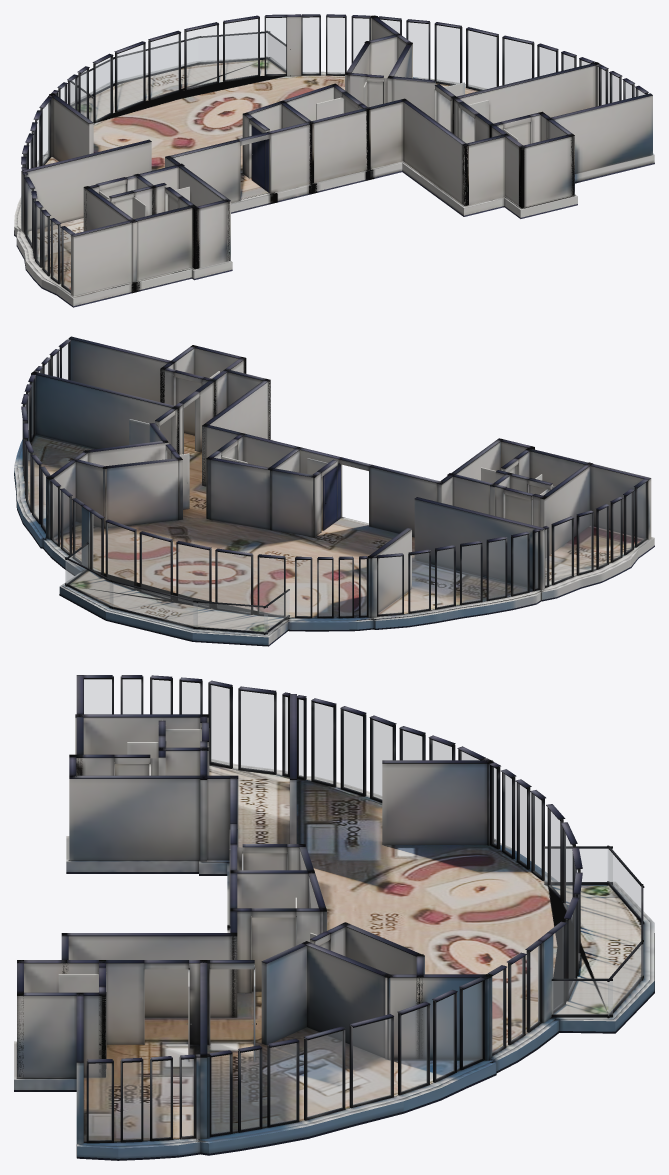
3 renders of one model, top to bottom at view 1: azimuth 30°, elevation 25°; view 2: azimuth 150°, elevation 25°; view 3: azimuth 270°, elevation 25°, orthographic. The views are drawn at different scales.
Visible parts, largest first — view 1: plan, glass22_m, glass21_m, railg3_m, glass30_m, glass20_m, glass19_m, railg2_m, glass29_m, glass23_m, glass31_m, glass25_m (+6 smaller); view 2: plan, railg3_m, glass19_m, railg4_m, glass20_m, glass21_m, glass22_m, glass13_m, glass18_m, railg2_m, glass10_m, glass12_m (+12 smaller); view 3: plan, glass30_m, glass31_m, glass5_m, glass32_m, glass29_m, railg0_m, glass38_m, railg1_m, glass9_m, glass27_m, glass36_m (+16 smaller).
Boxes of the visible parts, x1,y1,x2,y2 form: plan: [14, 14, 654, 307]; glass22_m: [225, 19, 257, 79]; glass21_m: [187, 25, 217, 87]; railg3_m: [113, 39, 197, 82]; glass30_m: [468, 30, 496, 89]; glass20_m: [151, 34, 178, 97]; glass19_m: [117, 45, 143, 109]; railg2_m: [199, 33, 267, 61]; glass29_m: [436, 25, 459, 83]; glass23_m: [266, 18, 285, 74]; glass31_m: [504, 39, 531, 84]; glass25_m: [327, 17, 344, 73]; plan: [14, 336, 654, 646]; railg3_m: [110, 582, 197, 627]; glass19_m: [217, 552, 250, 612]; railg4_m: [193, 602, 267, 631]; glass20_m: [178, 544, 208, 605]; glass21_m: [141, 535, 170, 597]; glass22_m: [107, 523, 133, 587]; glass13_m: [378, 556, 401, 614]; glass18_m: [259, 557, 283, 615]; railg2_m: [65, 560, 113, 606]; glass10_m: [462, 544, 480, 602]; glass12_m: [410, 553, 428, 611]; plan: [14, 675, 654, 1160]; glass30_m: [353, 1019, 391, 1104]; glass31_m: [307, 1031, 342, 1117]; glass5_m: [241, 691, 273, 771]; glass32_m: [270, 1043, 296, 1124]; glass29_m: [401, 1006, 427, 1091]; railg0_m: [552, 981, 612, 1014]; glass38_m: [89, 1063, 111, 1140]; railg1_m: [544, 849, 612, 881]; glass9_m: [343, 711, 362, 793]; glass27_m: [463, 982, 482, 1066]; glass36_m: [152, 1060, 170, 1138].
Bounding box in the file's own units: 23.36 × 2.62 × 16.03.
2 materials, 1 textured.
